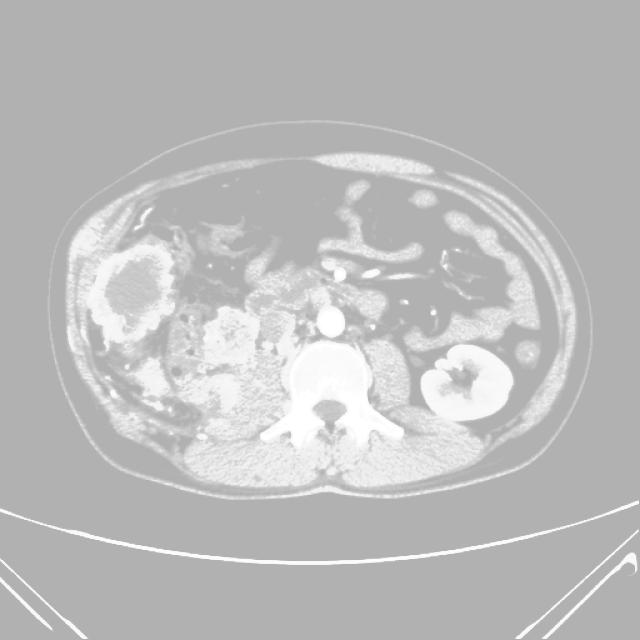TUMOR: (106, 157, 563, 403)
